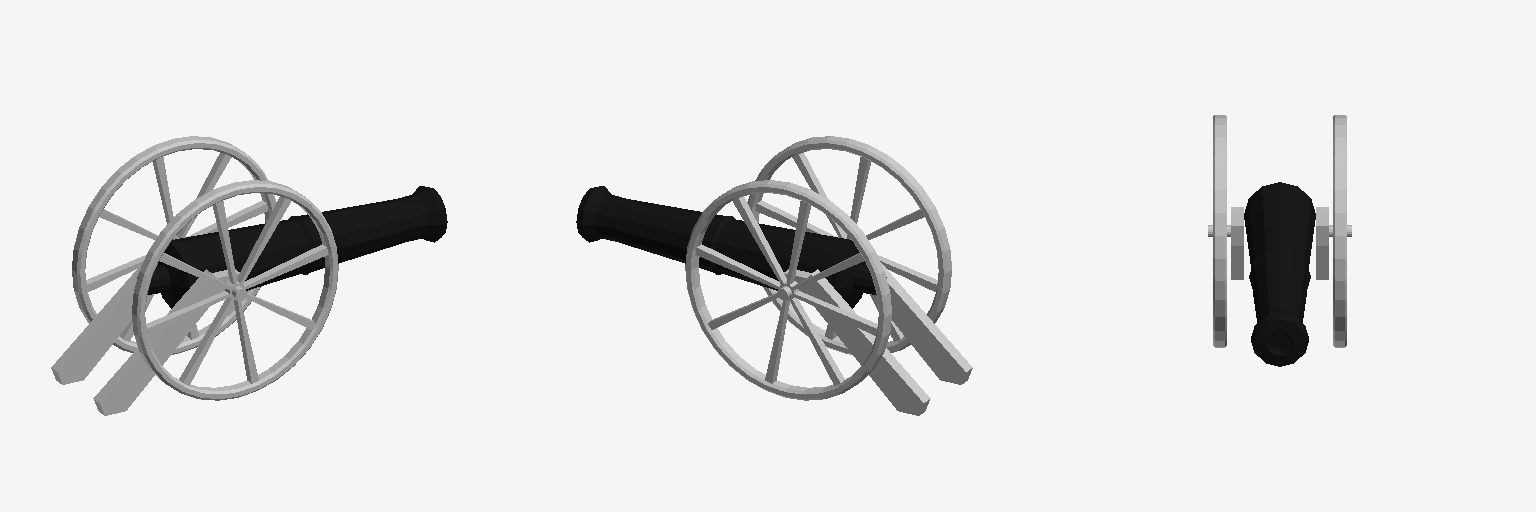
The model's file is cart.obj.
The picture shows the model from 3 angles: view 1: azimuth 30°, elevation 25°; view 2: azimuth 150°, elevation 25°; view 3: azimuth 270°, elevation 25°; orthographic projection.
Parts seen in each view (by area): view 1: Cube, Cylinder; view 2: Cube, Cylinder; view 3: Cylinder, Cube.
Part boxes in pixels (bbox=[...]): Cube: bbox=[51, 136, 338, 415]; Cylinder: bbox=[137, 186, 447, 308]; Cube: bbox=[685, 136, 972, 415]; Cylinder: bbox=[576, 186, 886, 308]; Cylinder: bbox=[1244, 182, 1315, 366]; Cube: bbox=[1208, 115, 1351, 347].
Size of the model in its own units: 6.95 by 3.9 by 2.41.